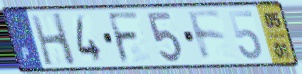4: (76, 13, 105, 63)
5: (144, 10, 186, 64), (226, 8, 264, 61)
F: (185, 9, 229, 64), (105, 10, 142, 66)
H: (28, 11, 79, 67)
